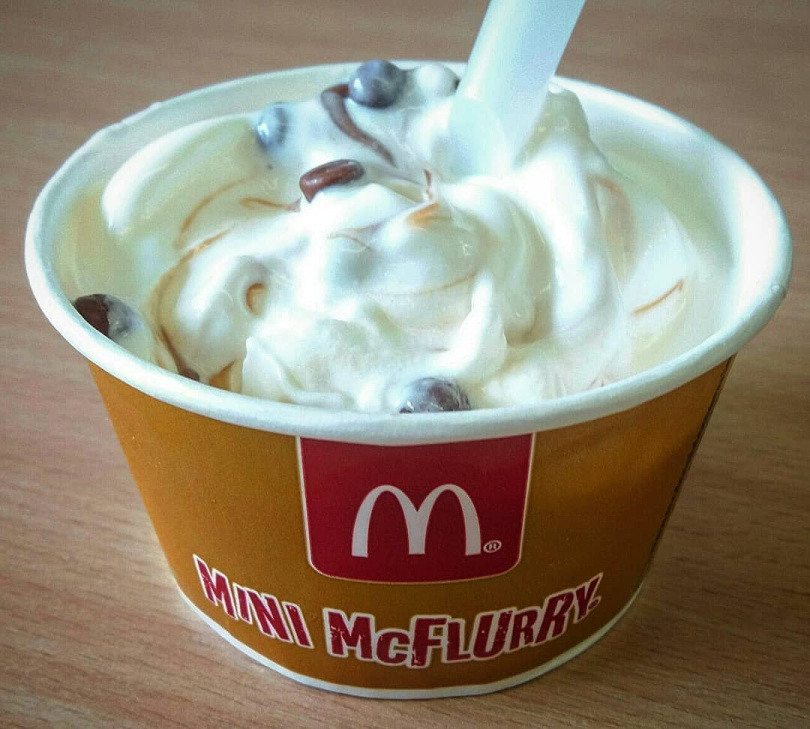mcdonalds: (350, 470, 487, 576)
